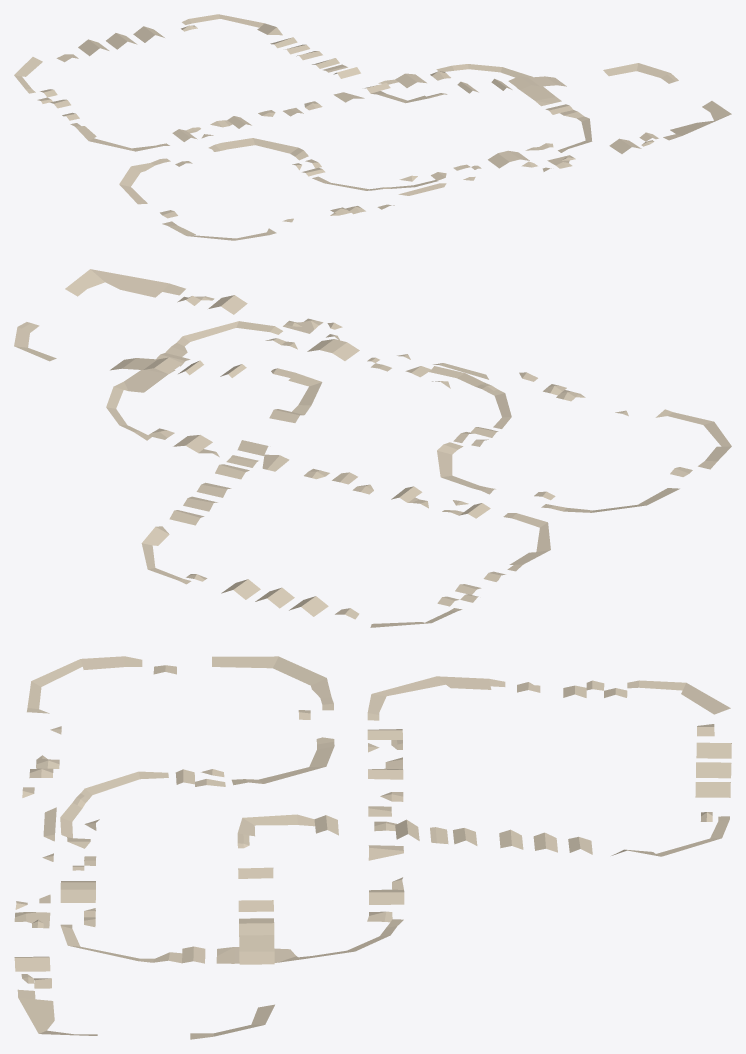
Rendered from RBP1.glb.
3 views of the same model, one above another, from view 1: azimuth 30°, elevation 25°; view 2: azimuth 150°, elevation 25°; view 3: azimuth 270°, elevation 25° (orthographic). The views are drawn at different scales.
Visible parts, largest first — view 1: Course.056, Course.002, Course.005, Course.062, Course.044, Course.045, Course.031, Course.064, Course.020, Course.026, Course.050; view 2: Course.002, Course.055, Course.064, Course.031, Course.056, Course.048, Course.045, Course.011, Course.044, Course.050; view 3: Course.062, Course.031, Course.064, Course.055, Course.002, Course.026, Course.006, Course.056, Course.011, Course.050, Course.007, Course.045.
Part boxes in pixels (x1,y1,x2,y2): Course.056: (208,138,308,160); Course.002: (663,101,731,140); Course.005: (603,63,678,83); Course.062: (119,163,154,204); Course.044: (436,64,532,77); Course.045: (517,85,561,106); Course.031: (70,123,169,151); Course.064: (162,221,276,240); Course.020: (182,14,263,27); Course.026: (14,57,42,93); Course.050: (488,150,529,168); Course.002: (65,269,185,297); Course.055: (429,366,511,428); Course.064: (655,409,731,469); Course.031: (503,513,550,571); Course.056: (437,442,495,494); Course.048: (177,321,282,346); Course.045: (124,368,175,392); Course.011: (288,372,322,414); Course.044: (106,381,151,440); Course.050: (307,339,359,360); Course.062: (212,656,331,697); Course.031: (367,676,505,720); Course.064: (27,656,142,713); Course.055: (60,771,168,838); Course.002: (17,989,97,1035); Course.026: (627,680,730,714); Course.006: (239,935,274,964); Course.056: (231,737,334,785); Course.011: (237,814,314,836); Course.050: (60,881,95,902); Course.007: (239,918,274,935); Course.045: (216,947,295,963).
Bounding box in the file's own units: 51.41 × 2.65 × 40.84.
